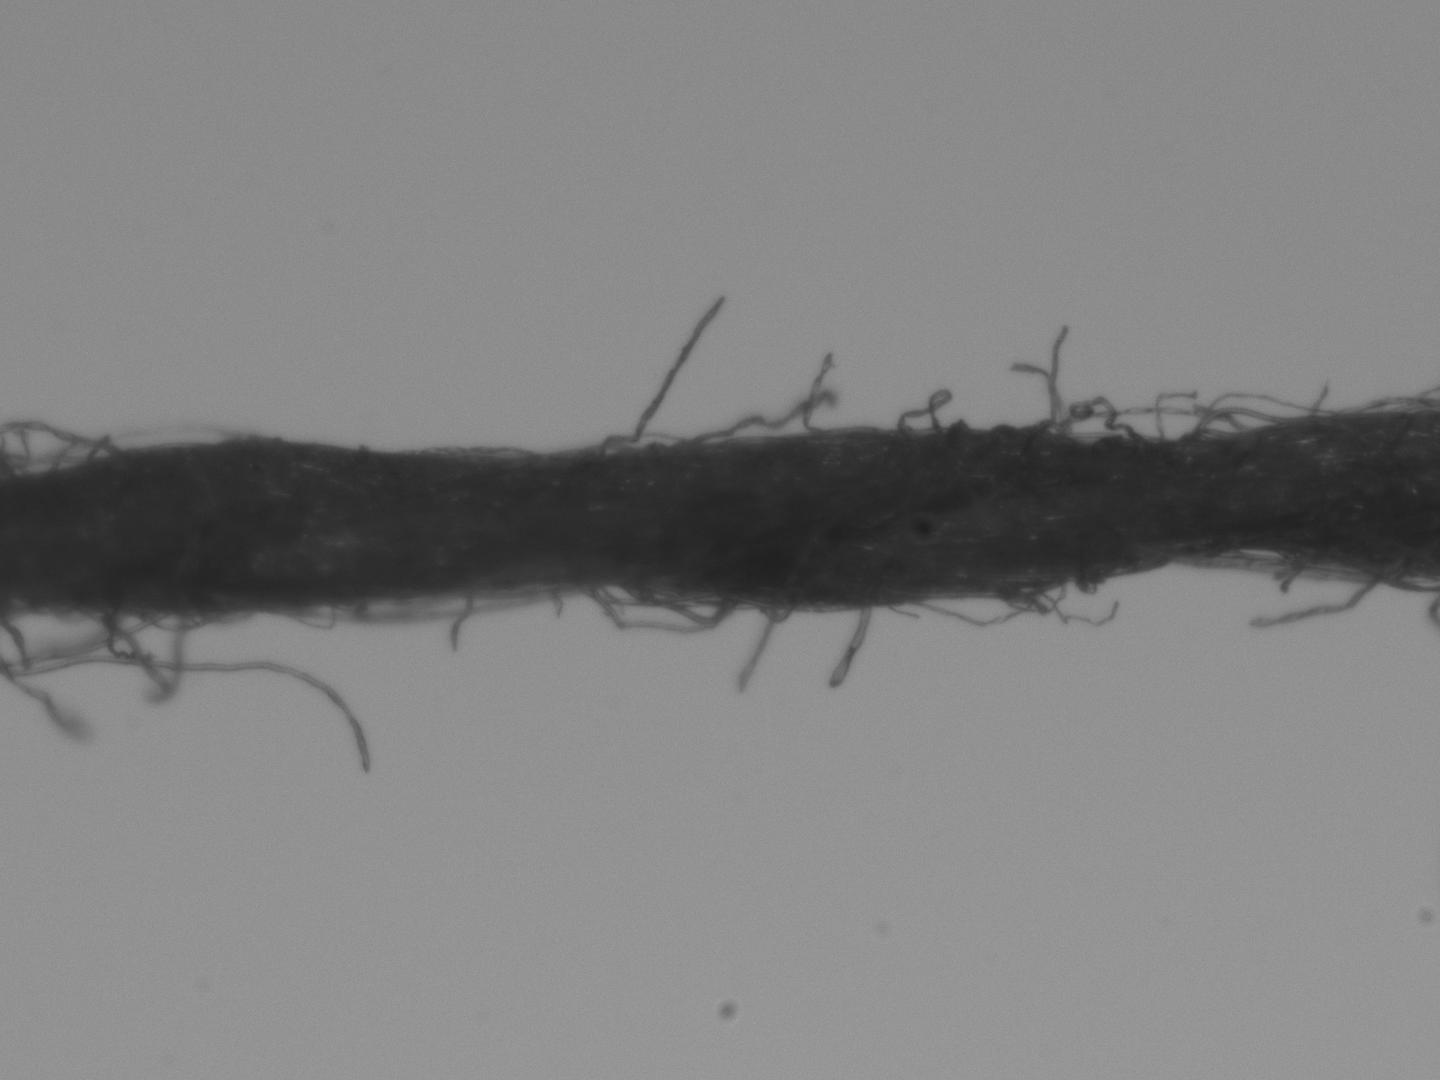loop_fiber: (319, 587, 545, 626), (909, 582, 1051, 626), (616, 580, 736, 628), (1028, 394, 1137, 440), (1196, 543, 1329, 571), (1188, 405, 1282, 440), (125, 608, 223, 639), (44, 436, 119, 474), (898, 388, 955, 434), (1346, 396, 1432, 419), (753, 597, 802, 627)
protruding_fiber: (599, 293, 725, 455), (1251, 560, 1399, 630), (731, 602, 794, 699), (828, 605, 873, 691), (446, 585, 471, 650)
